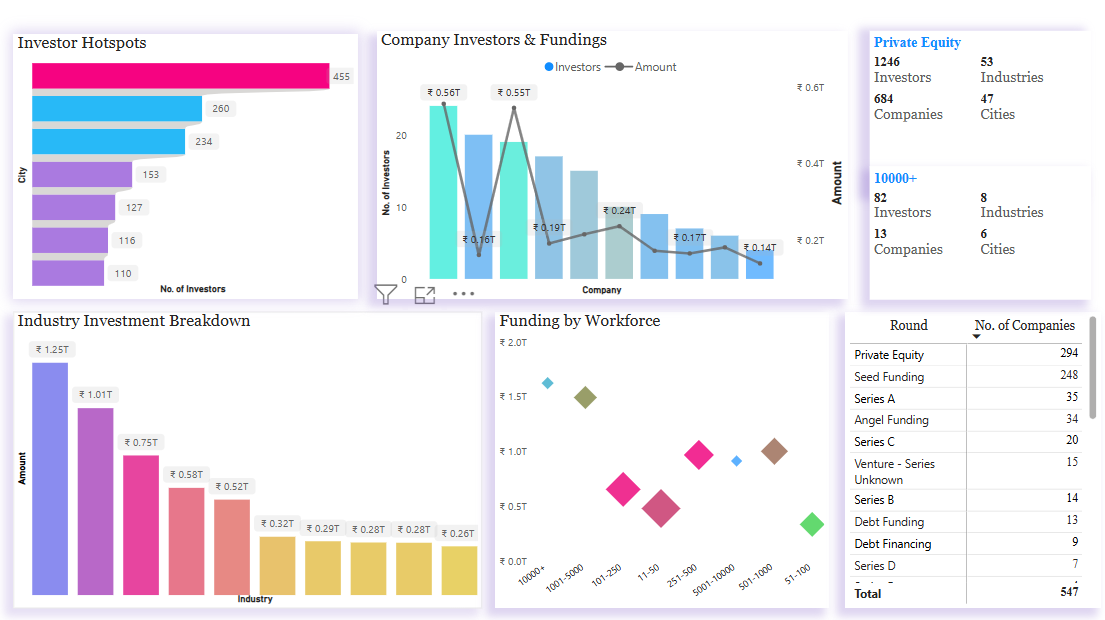

What the dashboard file says about the page in this screenshot:
{"tool":"powerbi","page":{"name":"Major Insights","canvas":[1280,720],"ordinal":1},"visuals":[{"type":"clusteredColumnChart","title":"Industry Investment Breakdown","fields":{"Category":["Startups_funding.Industry"],"Y":["Sum(Startups_funding.Amount_in_crores)"]},"box":[16.2,360.4,539.8,341.2],"z":0},{"type":"multiRowCard","fields":{"Values":["Startups_funding.Investors","Startups_funding.Industry","Startups_funding.Company","Startups_funding.City","Startups_funding.Top_Round_By_Investors"]},"box":[1001.7,38.3,255,191.7],"z":1000},{"type":"multiRowCard","fields":{"Values":["Startups_funding.Investors","Startups_funding.Industry","Startups_funding.Company","Startups_funding.City","Startups_funding.Employee Size"]},"box":[1001.7,193.3,255,153.3],"z":2000},{"type":"scatterChart","title":"Funding by Workforce","fields":{"X":["Startups_funding.Employee Size"],"Y":["Sum(Startups_funding.Amount_in_crores)"],"Size":["Count(Startups_funding.Company)"]},"box":[570.7,360.4,383.9,341.2],"z":3000},{"type":"barChart","title":"Investor Hotspots","fields":{"Category":["Startups_funding.City"],"Y":["Count(Startups_funding.Investors)"]},"box":[16.7,41.7,396.7,305],"z":4000},{"type":"lineStackedColumnComboChart","title":"Company Investors & Fundings","fields":{"Category":["Startups_funding.Company"],"Y2":["Sum(Startups_funding.Amount_in_crores)"],"Y":["Count(Startups_funding.Investors)"]},"box":[435,38.3,541.7,308.3],"z":5000},{"type":"pivotTable","fields":{"Values":["Count(Startups_funding.Company)"],"Rows":["Startups_funding.Round"]},"box":[973.7,360.4,294.2,341.2],"z":10000}]}

Visuals, with their boxes in screenshot pixels (x1, y1, x2, y2), scaled from the page's 1280x720 canvas onto the 1105x620 screenshot:
"Industry Investment Breakdown" clusteredColumnChart: left=14, top=310, right=480, bottom=604
multiRowCard - Startups_funding.Investors x Startups_funding.Industry: left=865, top=33, right=1085, bottom=198
multiRowCard - Startups_funding.Investors x Startups_funding.Industry: left=865, top=166, right=1085, bottom=298
"Funding by Workforce" scatterChart: left=493, top=310, right=824, bottom=604
"Investor Hotspots" barChart: left=14, top=36, right=357, bottom=299
"Company Investors & Fundings" lineStackedColumnComboChart: left=376, top=33, right=843, bottom=298
pivotTable - Count(Startups_funding.Company) x Startups_funding.Round: left=841, top=310, right=1095, bottom=604
